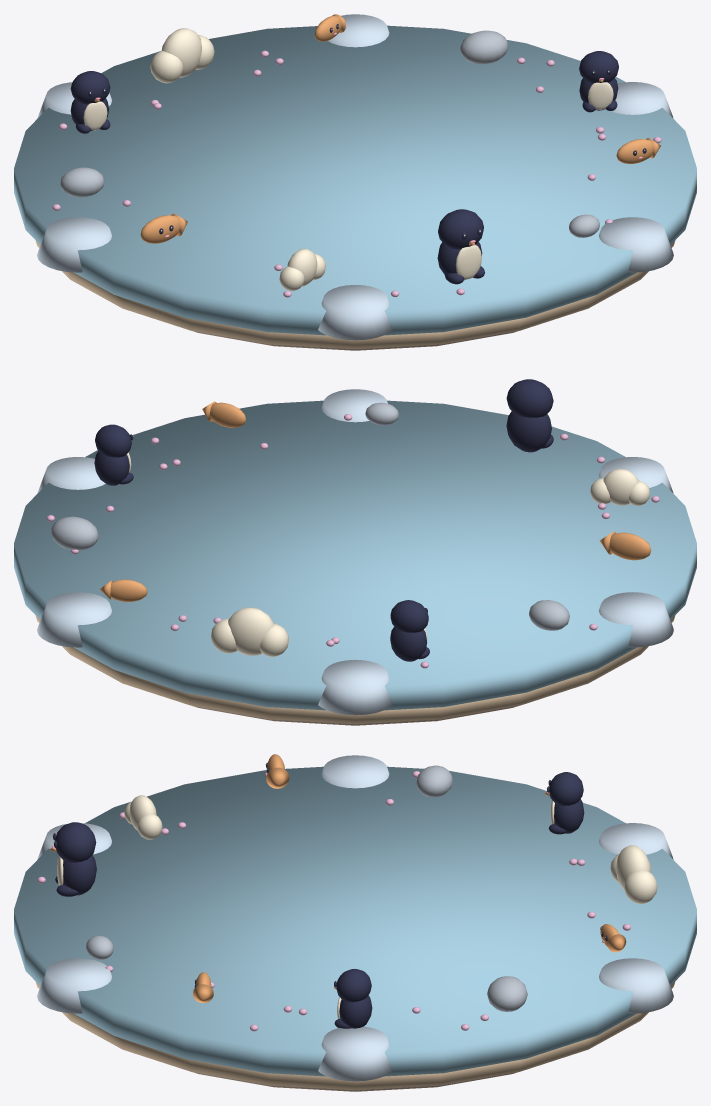
The model's file is world.glb.
3 views of the same model, one above another, from view 1: azimuth 30°, elevation 25°; view 2: azimuth 150°, elevation 25°; view 3: azimuth 270°, elevation 25° (orthographic).
Parts seen in each view (by area): view 1: Cone, Cone.001, Cone.007, penguin.003, Cone.006, Cone.008, cloud.001, penguin.001, penguin.002, Cone.003, Cone.004, cloud.002 (+8 smaller); view 2: Cone, Cone.001, Cone.005, penguin.003, cloud.001, Cone.004, Cone.006, penguin.002, penguin.001, cloud.002, Cone.003, Cone.008 (+8 smaller); view 3: Cone, Cone.001, Cone.003, Cone.004, Cone.008, penguin.003, penguin.002, penguin.001, cloud.001, Cone.006, Cone.005, cloud.002 (+6 smaller).
Boxes of the visible parts, <box> form: Cone: <box>14,25,696,335</box>; Cone.001: <box>35,240,675,349</box>; Cone.007: <box>318,285,392,340</box>; penguin.003: <box>437,209,484,284</box>; Cone.006: <box>37,217,111,272</box>; Cone.008: <box>599,217,673,272</box>; cloud.001: <box>150,28,214,83</box>; penguin.001: <box>579,51,618,112</box>; penguin.002: <box>70,71,110,133</box>; Cone.003: <box>610,82,673,118</box>; Cone.004: <box>328,14,389,47</box>; cloud.002: <box>279,248,325,290</box>; Cone: <box>14,400,696,710</box>; Cone.001: <box>35,615,675,724</box>; Cone.005: <box>318,659,392,715</box>; penguin.003: <box>506,379,553,452</box>; cloud.001: <box>211,607,288,656</box>; Cone.004: <box>37,592,111,647</box>; Cone.006: <box>599,592,673,647</box>; penguin.002: <box>390,600,429,661</box>; penguin.001: <box>94,424,133,485</box>; cloud.002: <box>590,469,649,505</box>; Cone.003: <box>37,457,105,493</box>; Cone.008: <box>321,389,387,422</box>; Cone: <box>14,766,696,1076</box>; Cone.001: <box>36,982,674,1090</box>; Cone.003: <box>318,1026,392,1081</box>; Cone.004: <box>599,958,673,1013</box>; Cone.008: <box>37,958,111,1013</box>; penguin.003: <box>49,822,96,896</box>; penguin.002: <box>544,772,584,834</box>; penguin.001: <box>333,969,372,1028</box>; cloud.001: <box>610,845,657,903</box>; Cone.006: <box>321,755,389,788</box>; Cone.005: <box>599,823,673,859</box>; cloud.002: <box>124,795,162,839</box>.
Bounding box in the file's own units: 10.16 × 1.82 × 9.6.
